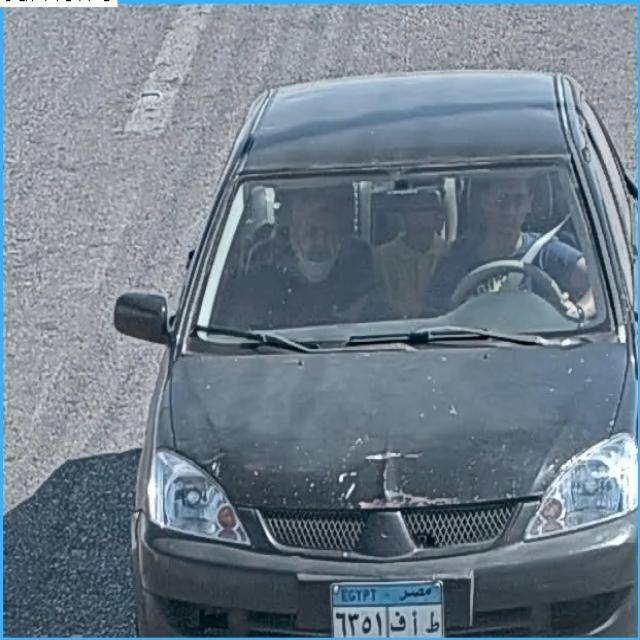windshield: (213, 178, 599, 322)
